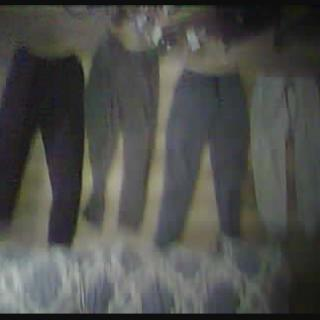Blue Sweatpants: (163, 65, 245, 242)
Gray Sweatpants: (86, 33, 156, 229)
Navy Sweatpants: (0, 48, 81, 247)
White Sweatpants: (249, 69, 320, 238)
